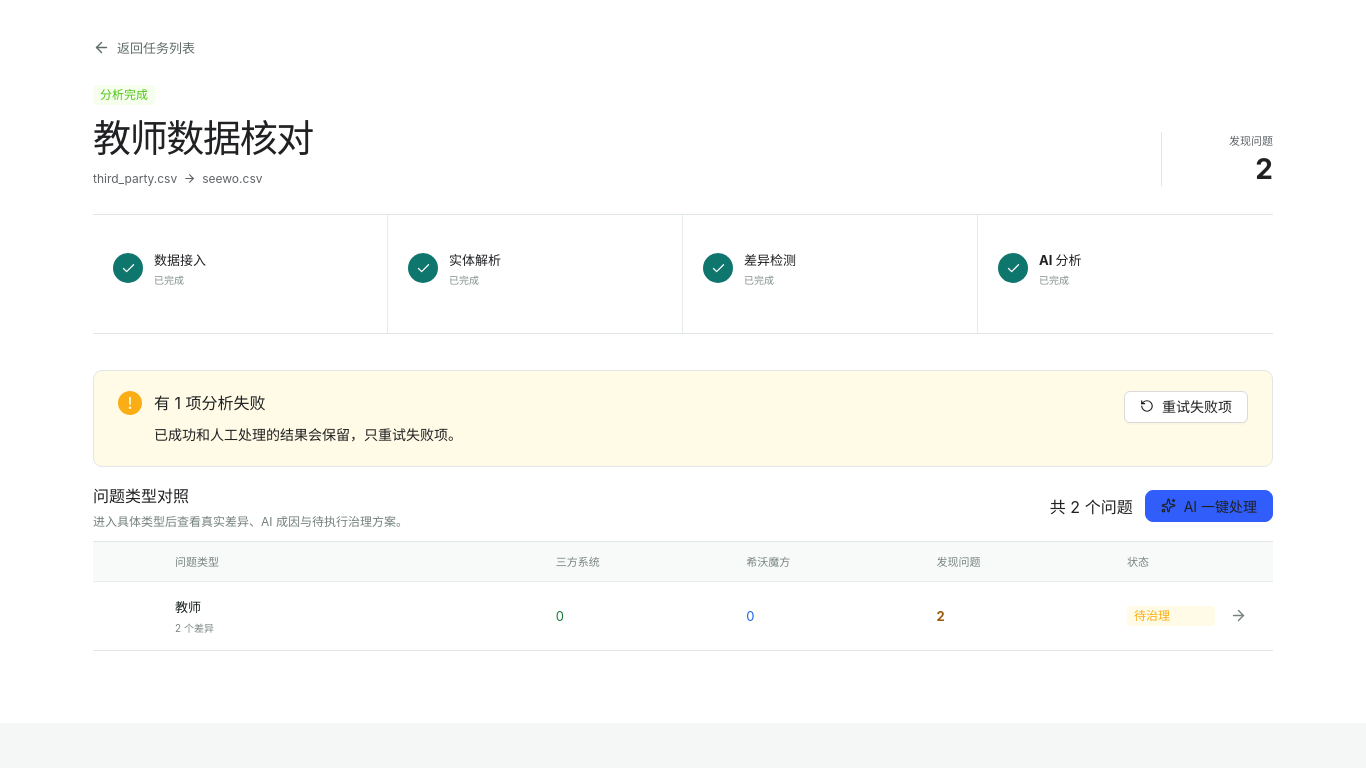
it: real task detail › hides stale terminal content while failed analyses are being retried
Expected: the heading "问题类型对照" is shown, [93,486,189,506]
Click the button "重试失败项" at (1186, 406), box [1124,390,1248,422]
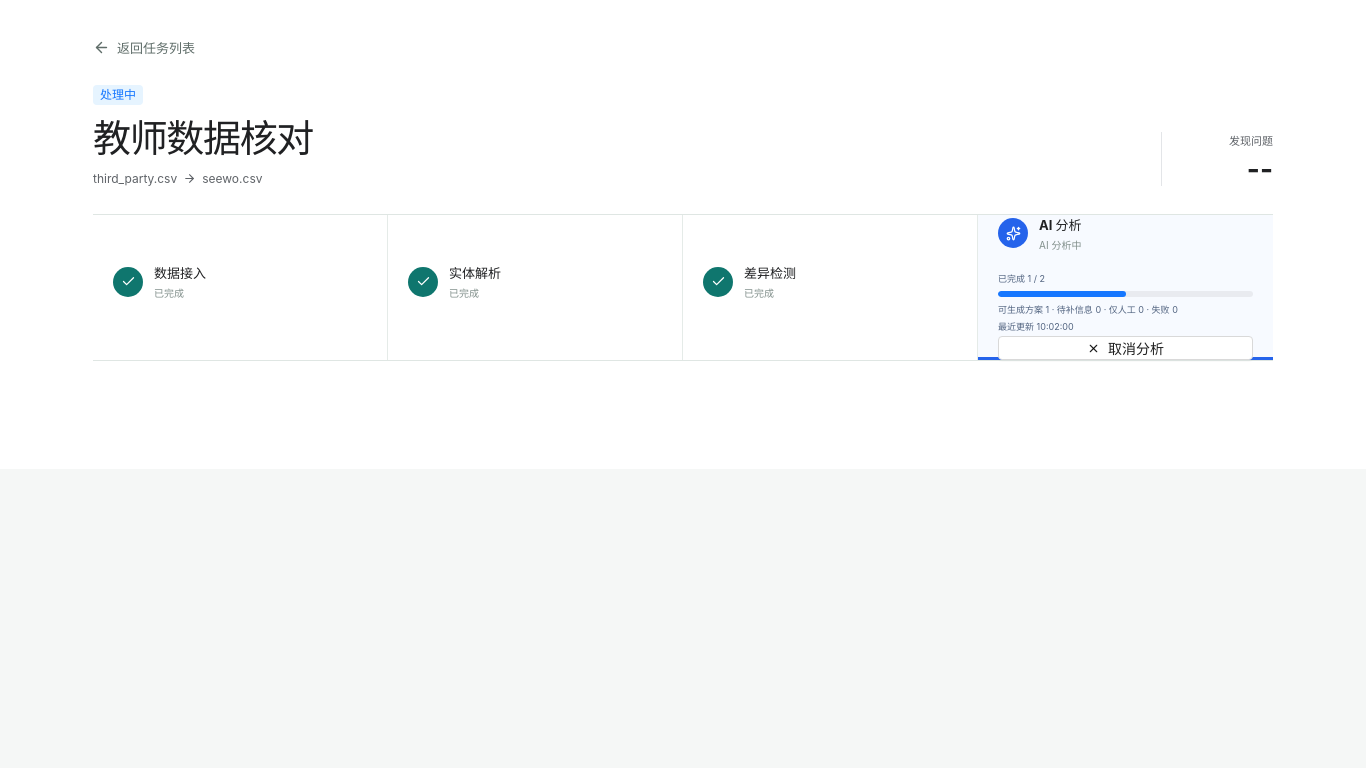
Now the heading "问题类型对照" is gone
Now the button "AI 一键处理" is gone
Now the text "已完成 1 / 2" is shown, box [998,272,1045,284]
